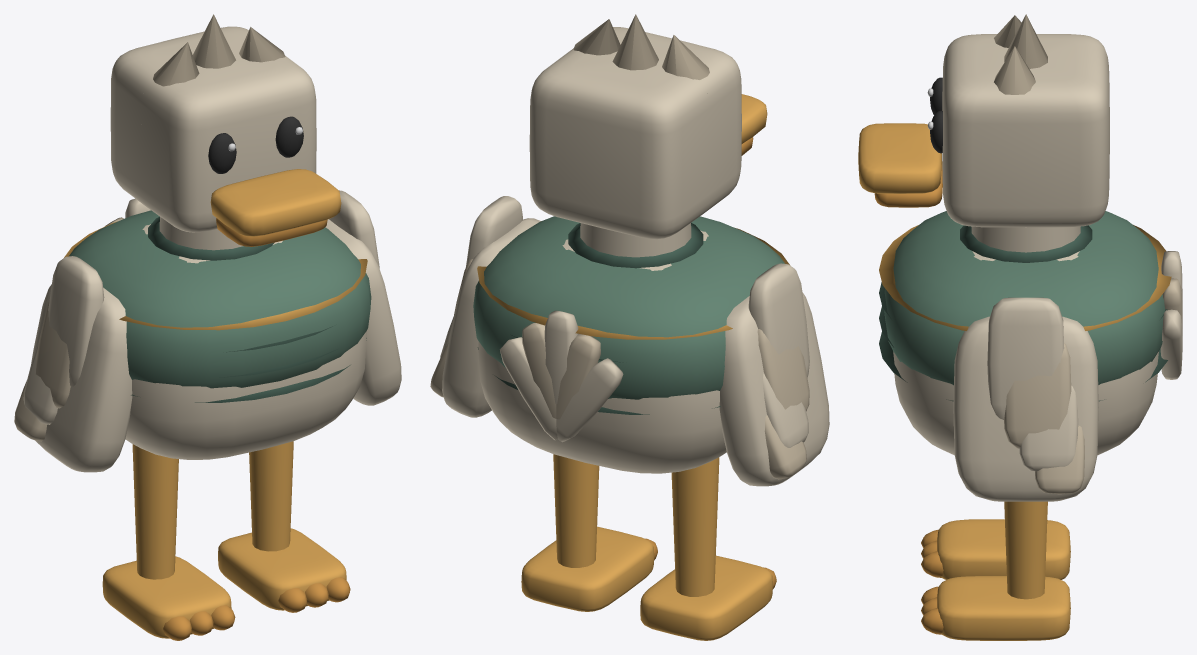
Rendered from pato_v2.glb.
The picture shows the model from 3 angles, left to right: view 1: azimuth 30°, elevation 25°; view 2: azimuth 150°, elevation 25°; view 3: azimuth 270°, elevation 25°; orthographic projection. The views are drawn at different scales.
Visible parts, largest first — view 1: Pato; view 2: Pato; view 3: Pato.
Boxes of the visible parts, x1,y1,x2,y2 form: Pato: [14, 14, 401, 640]; Pato: [430, 14, 829, 640]; Pato: [858, 14, 1182, 640].
Bounding box in the file's own units: 0.6346 × 1 × 0.5043.
